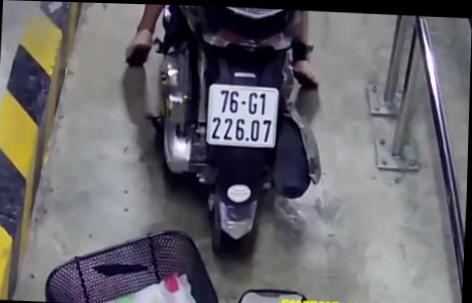LP: (206, 80, 279, 147)
